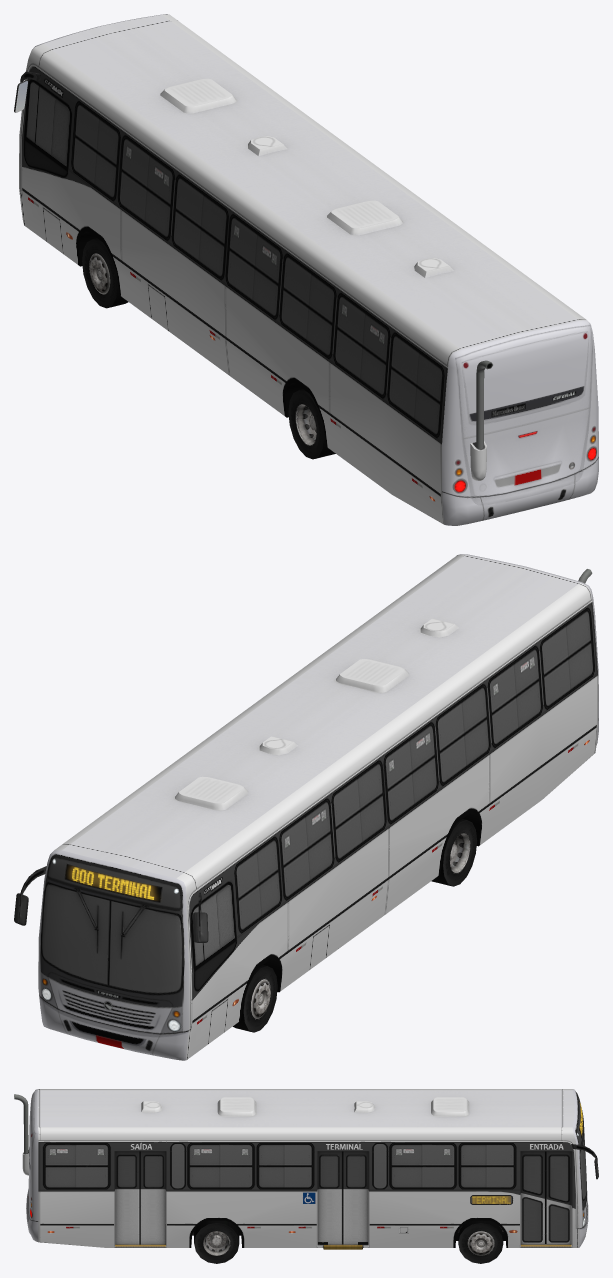
File: ciferal_citmax_cities_skylines.glb
3 views of the same model, one above another, from view 1: azimuth 30°, elevation 25°; view 2: azimuth 150°, elevation 25°; view 3: azimuth 270°, elevation 25° (orthographic). The views are drawn at different scales.
Parts seen in each view (by area): view 1: Object_2; view 2: Object_2; view 3: Object_2.
Boxes of the visible parts, x1=… form: Object_2: x1=14, y1=14, x2=598, y2=525; Object_2: x1=14, y1=554, x2=598, y2=1060; Object_2: x1=14, y1=1089, x2=598, y2=1263.
Size of the model in its own units: 2.87 by 3.24 by 12.62.
1 material, 1 textured.
